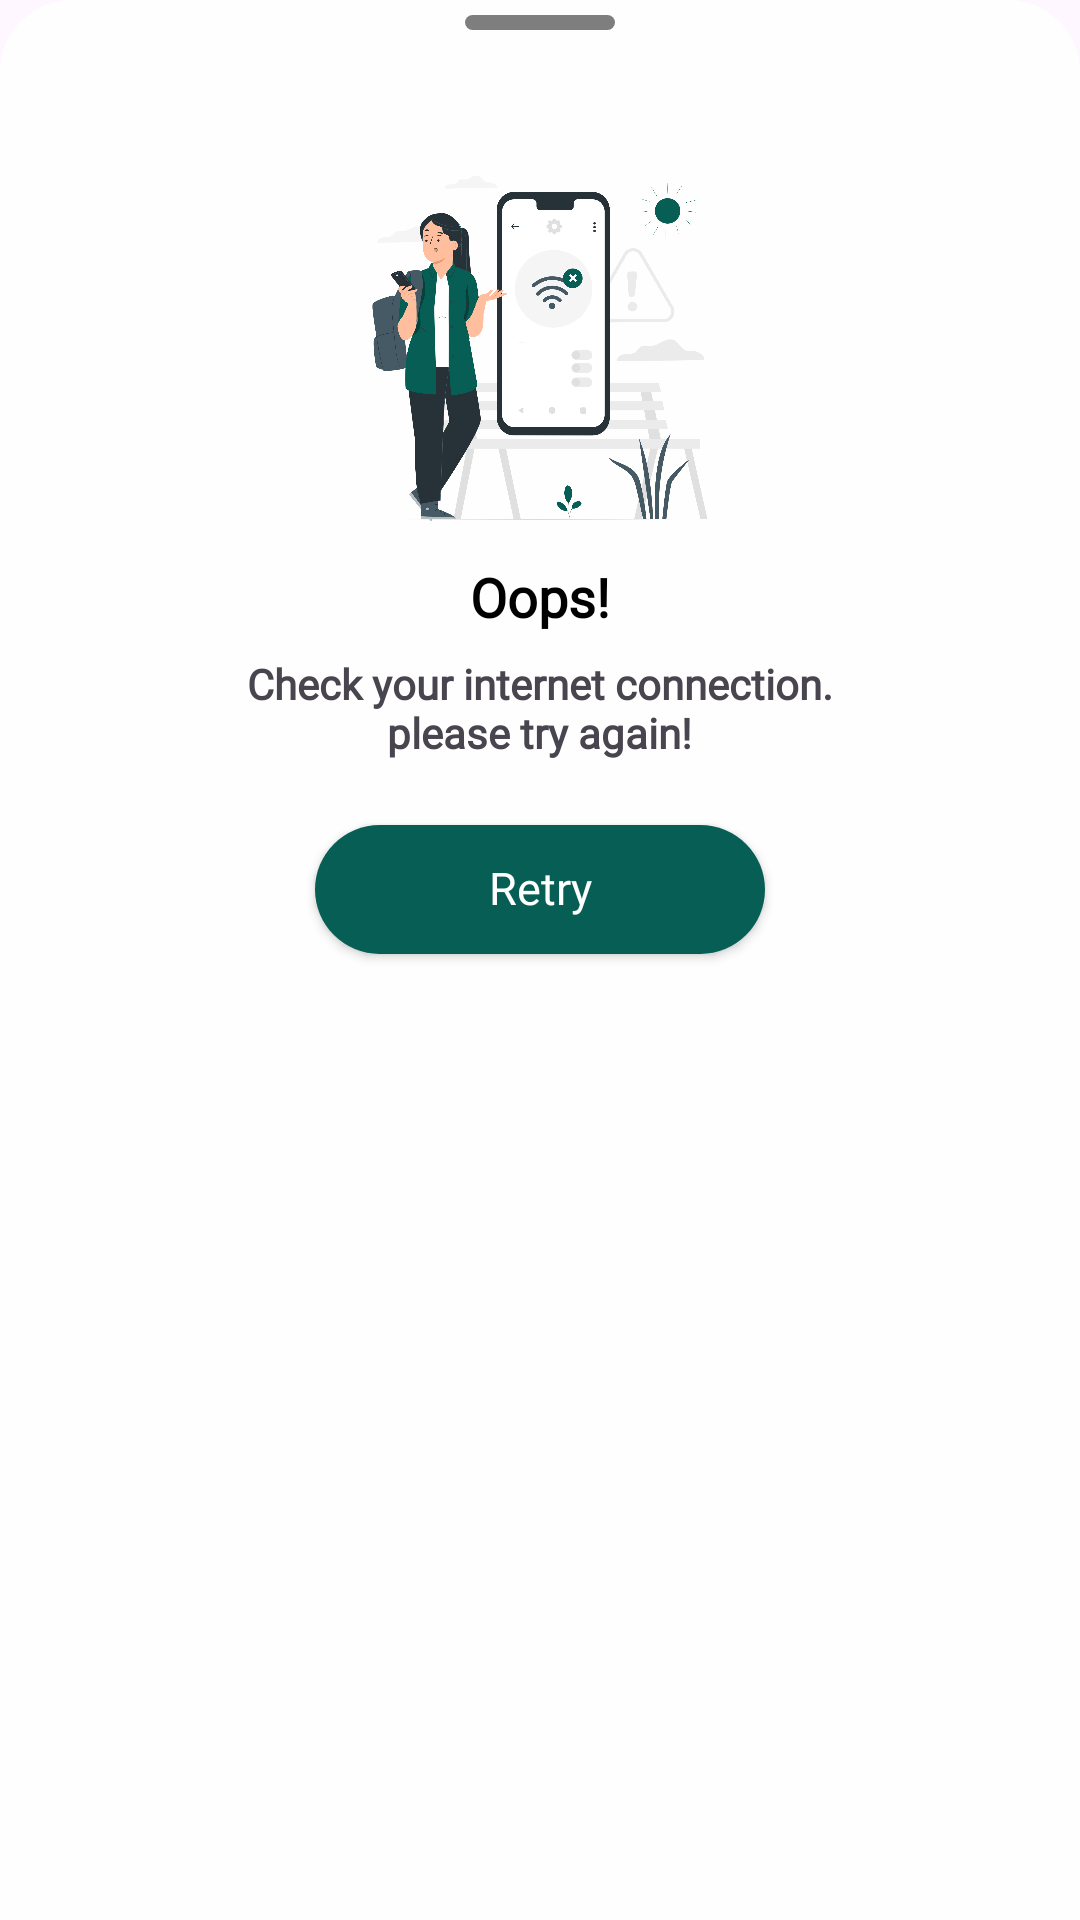

Point at icon controls on the screen. Image size 1080w x 1920h, points as [x,y].
no internet: [539,352]
